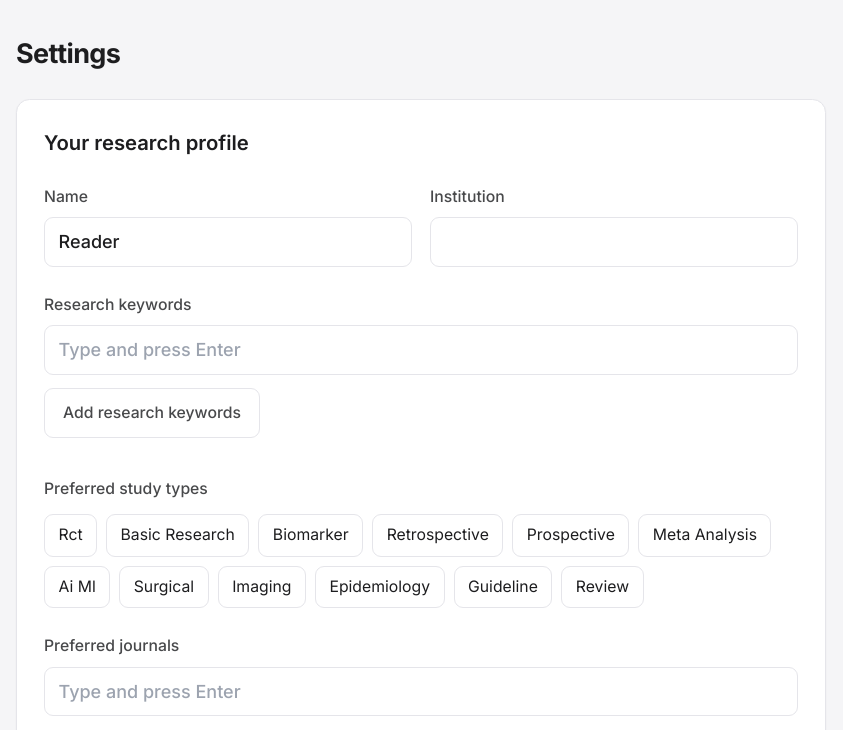
Test: reports settings failure without committing profile state
Replace the text in the field labelled "Name" with "Updated reader" at (228, 242), box [44,217,412,266]
(page scrolled)
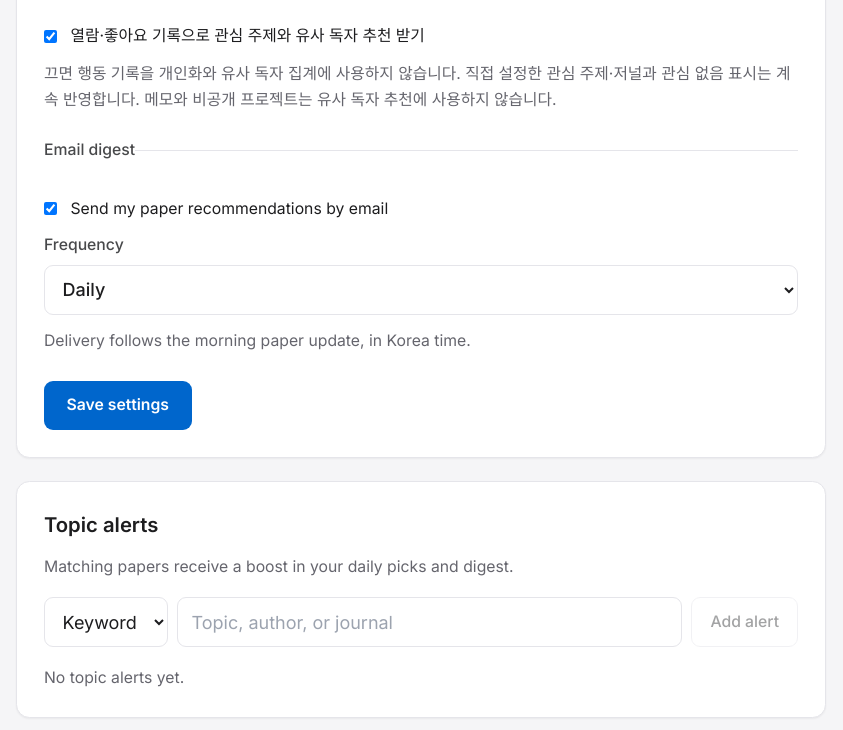
Click the button "Save settings" at (118, 406), box [44,381,192,430]
(page scrolled)
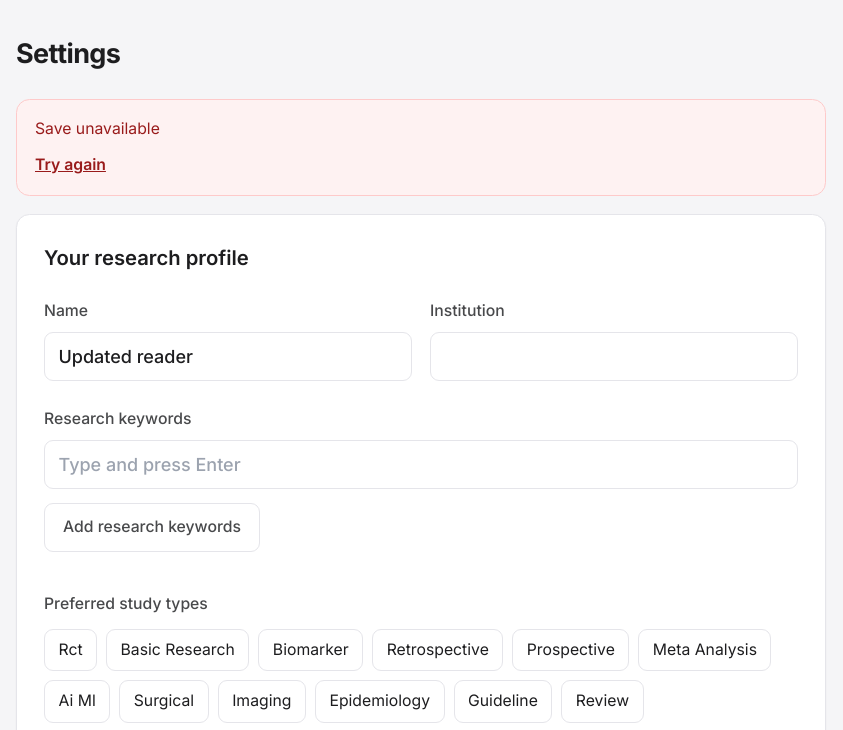
Expected: the message shows "Save unavailable", [35,119,160,138]
